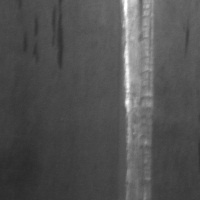inclusion: (49, 6, 67, 71), (21, 15, 41, 66), (179, 20, 193, 55)
scratches: (123, 0, 158, 199)
